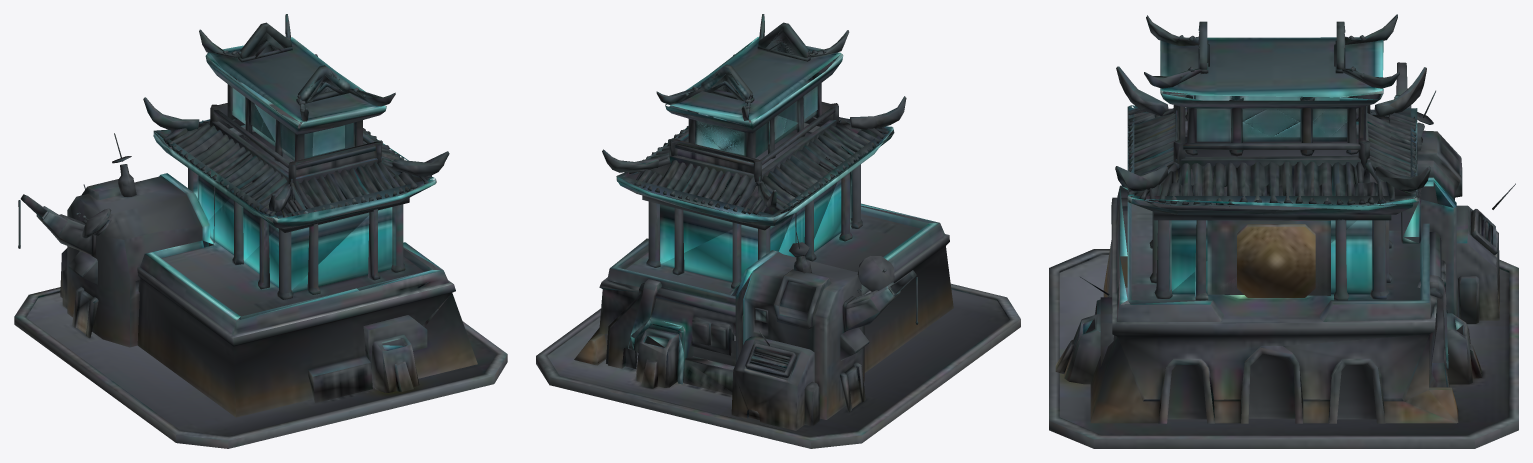
File: command_hub.glb
3 views of the same model, side by side, from view 1: azimuth 30°, elevation 25°; view 2: azimuth 150°, elevation 25°; view 3: azimuth 270°, elevation 25° (orthographic). The views are drawn at different scales.
Parts seen in each view (by area): view 1: Body, Trim; view 2: Body, Trim; view 3: Body, Trim.
Part boxes in pixels (<box>): Body: <box>14,14,507,448</box>; Trim: <box>153,52,435,292</box>; Body: <box>536,14,1020,448</box>; Trim: <box>616,37,893,344</box>; Body: <box>1049,14,1518,448</box>; Trim: <box>1127,40,1456,294</box>.
Size of the model in its own units: 19.88 by 15.62 by 19.18.
2 materials, 2 textured.
